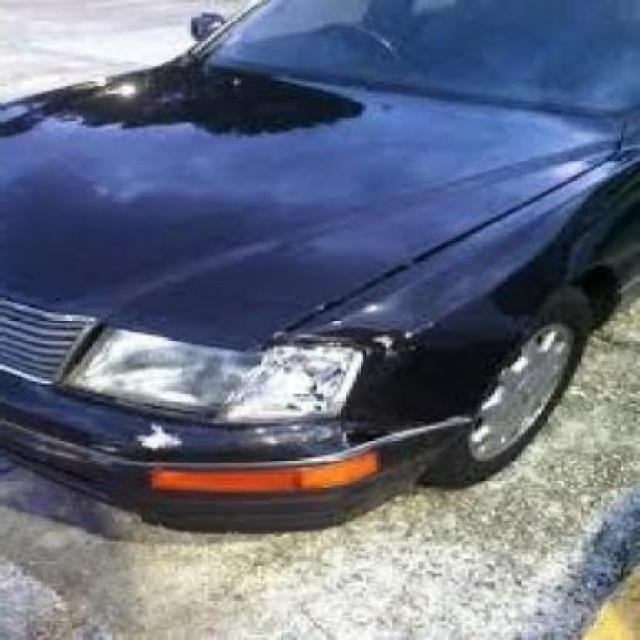damage: (117, 419, 349, 456), (252, 316, 416, 368)
